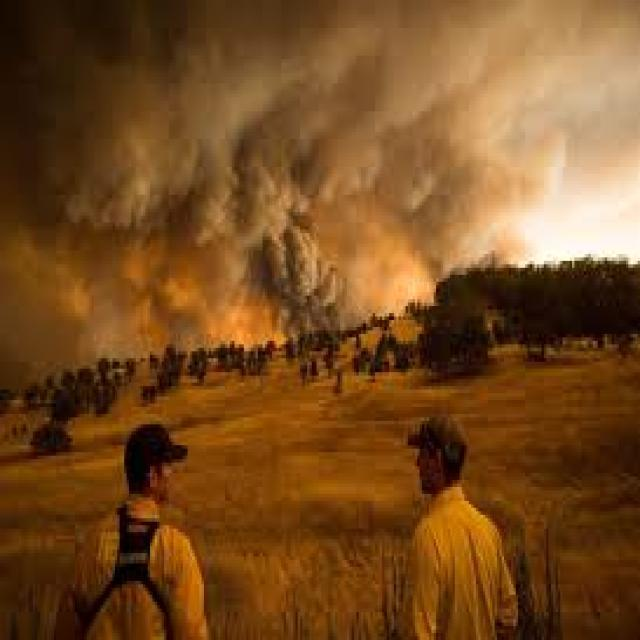Smoke: (14, 12, 409, 260), (422, 0, 640, 279), (257, 263, 354, 330)
